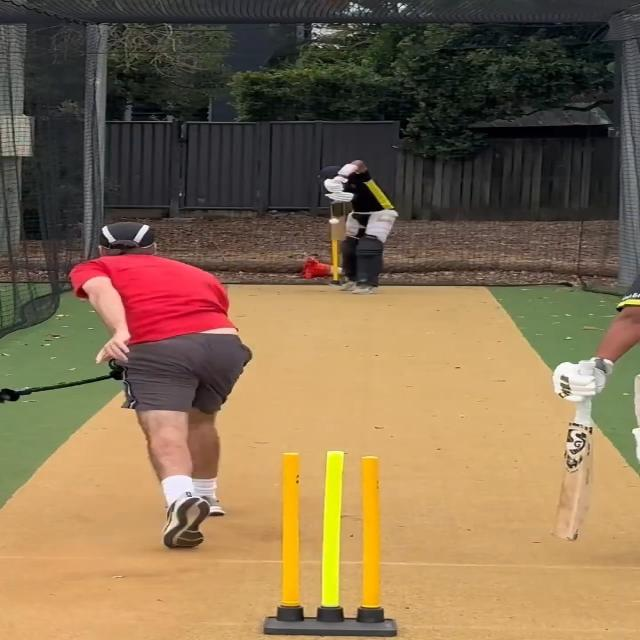stump: (263, 449, 400, 638)
